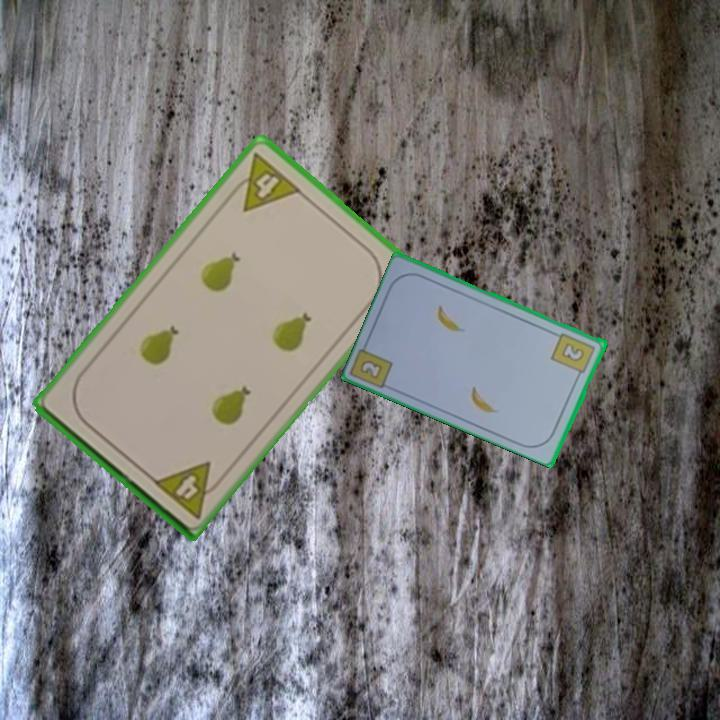2b: (548, 329, 598, 381), (359, 358, 383, 380)
4p: (223, 148, 304, 215), (149, 457, 228, 521)
